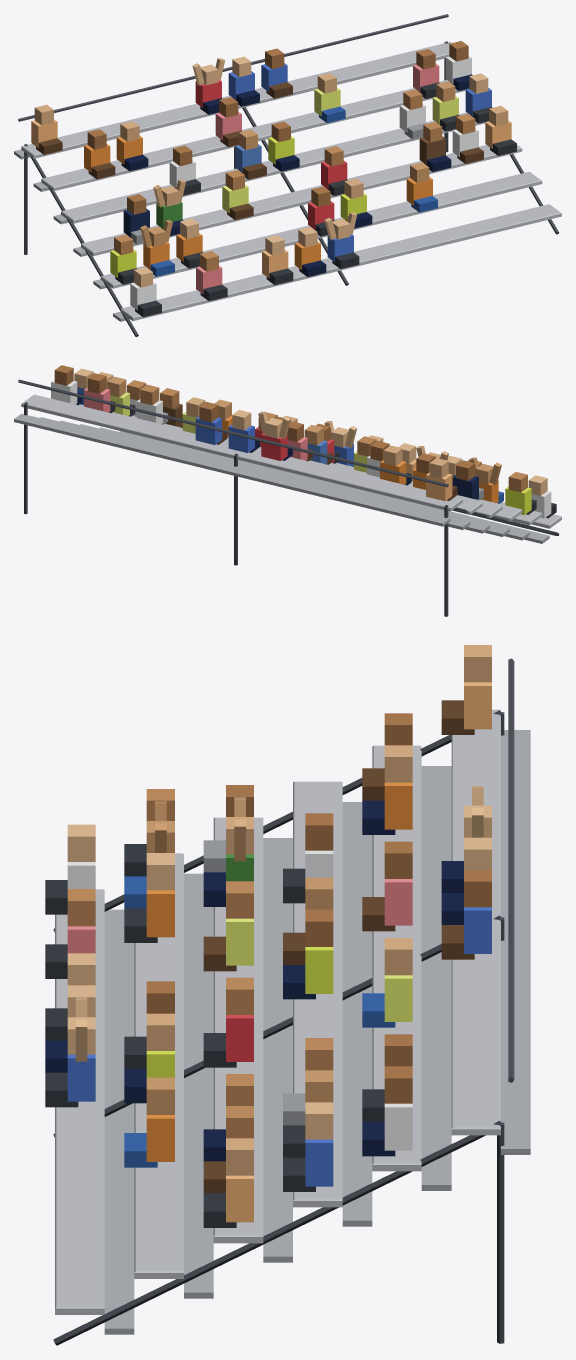
Rendered from Bleacher_0.glb.
3 views of the same model, one above another, from view 1: azimuth 30°, elevation 25°; view 2: azimuth 150°, elevation 25°; view 3: azimuth 270°, elevation 25° (orthographic). The views are drawn at different scales.
Parts seen in each view (by area): view 1: Bleacher_0; view 2: Bleacher_0; view 3: Bleacher_0.
Part boxes in pixels (<box>): Bleacher_0: <box>14,14,561,336</box>; Bleacher_0: <box>14,365,561,616</box>; Bleacher_0: <box>45,645,530,1345</box>.
Bounding box in the file's own units: 30 × 10.35 × 14.7.
1 material, 1 textured.
